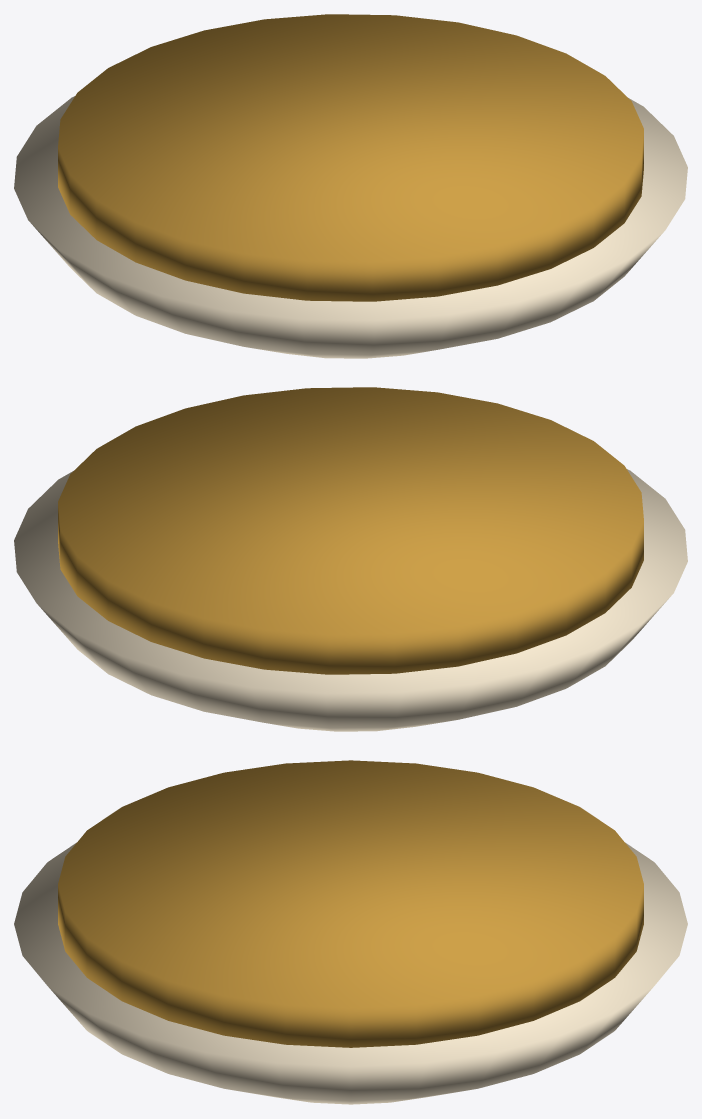
The model's file is RmCeilingLamp.fbx.
3 renders of one model, top to bottom at view 1: azimuth 30°, elevation 25°; view 2: azimuth 150°, elevation 25°; view 3: azimuth 270°, elevation 25°, orthographic.
Visible parts, largest first — view 1: RmCeilingLampBody, Glow; view 2: RmCeilingLampBody, Glow; view 3: RmCeilingLampBody, Glow.
Boxes of the visible parts, x1,y1,x2,y2 form: RmCeilingLampBody: [58, 14, 643, 301]; Glow: [14, 96, 687, 358]; RmCeilingLampBody: [58, 387, 643, 674]; Glow: [14, 469, 687, 731]; RmCeilingLampBody: [58, 760, 643, 1047]; Glow: [14, 842, 687, 1104].
Bounding box in the file's own units: 0.46 × 0.12 × 0.46.
